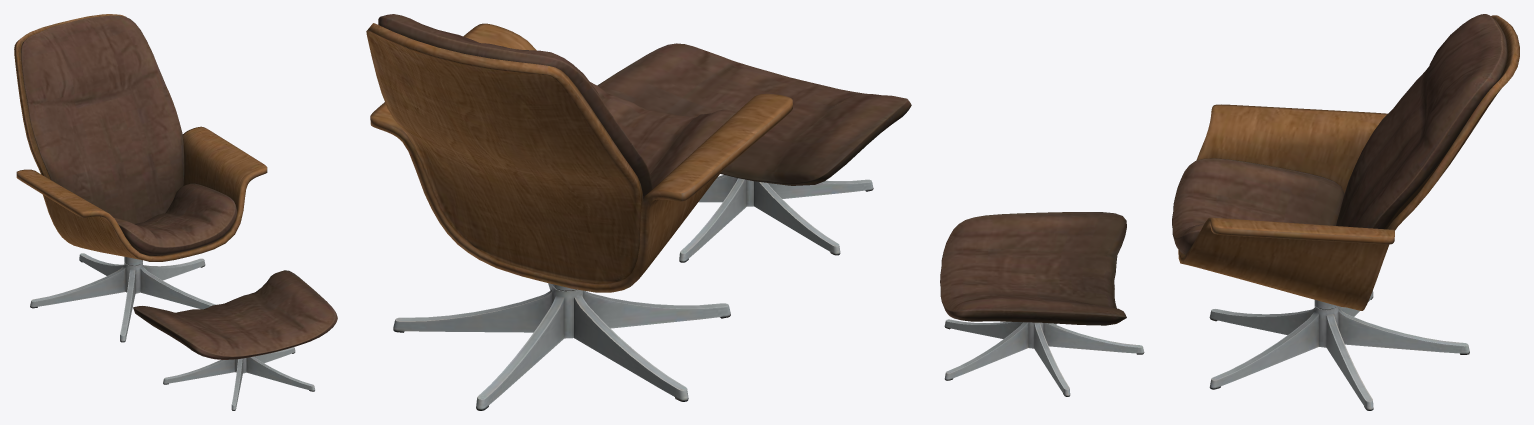
File: palma-lounge-chair.glb
The picture shows the model from 3 angles, left to right: view 1: azimuth 30°, elevation 25°; view 2: azimuth 150°, elevation 25°; view 3: azimuth 270°, elevation 25°; orthographic projection. The views are drawn at different scales.
Visible parts, largest first — view 1: mid_century_lounge_chair; view 2: mid_century_lounge_chair; view 3: mid_century_lounge_chair.
Part boxes in pixels (<box>): mid_century_lounge_chair: <box>14,14,337,410</box>; mid_century_lounge_chair: <box>366,14,911,410</box>; mid_century_lounge_chair: <box>940,14,1519,410</box>.
Size of the model in its own units: 0.9078 by 1.05 by 1.79.
Materials: 1 (1 with a texture image).
